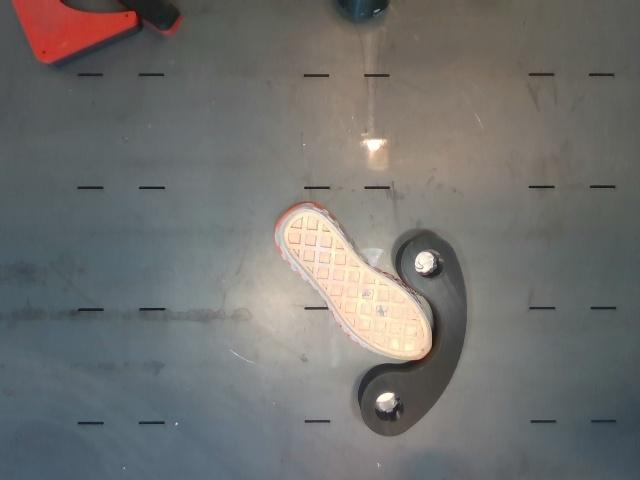shoes: (283, 210, 431, 360)
